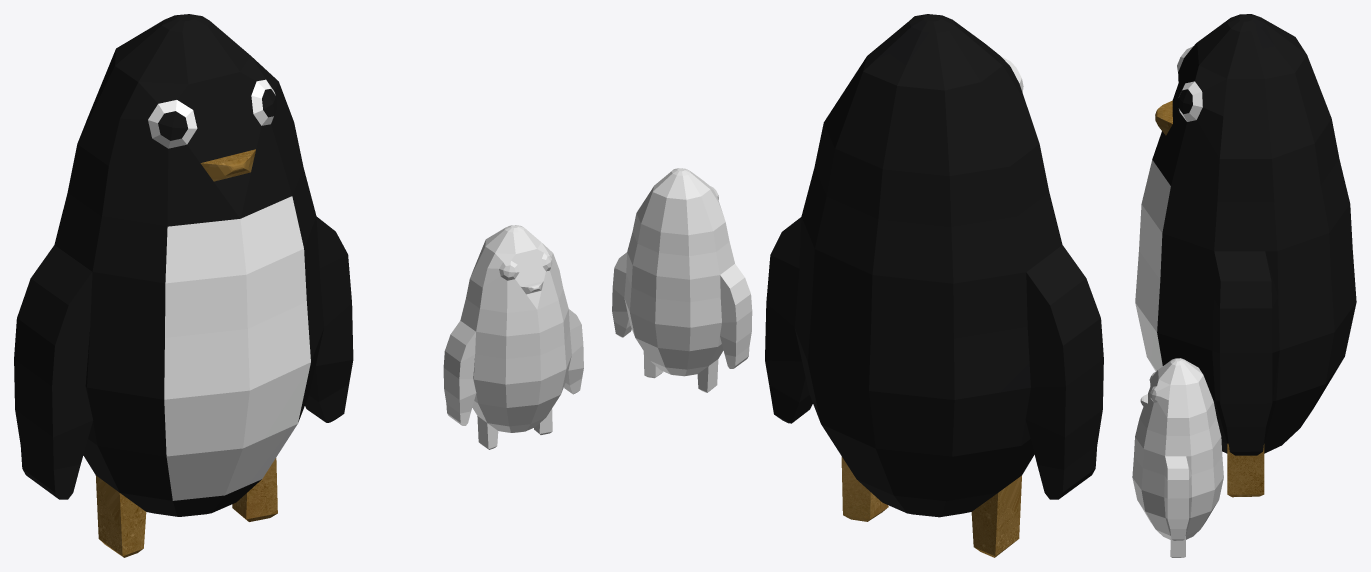
Rendered from penguin10.glb.
3 renders of one model, left to right at view 1: azimuth 30°, elevation 25°; view 2: azimuth 150°, elevation 25°; view 3: azimuth 270°, elevation 25°, orthographic. The views are drawn at different scales.
Visible parts, largest first — view 1: Cone, Cone.001; view 2: Cone, Cone.001; view 3: Cone, Cone.001.
Boxes of the visible parts, x1=… form: Cone: x1=14, y1=14, x2=353, y2=557; Cone.001: x1=443, y1=225, x2=583, y2=449; Cone: x1=765, y1=14, x2=1103, y2=557; Cone.001: x1=612, y1=168, x2=752, y2=392; Cone: x1=1135, y1=14, x2=1356, y2=497; Cone.001: x1=1132, y1=358, x2=1223, y2=557.
Size of the model in its own units: 2.85 by 2.78 by 1.26.
3 materials, 3 textured.
